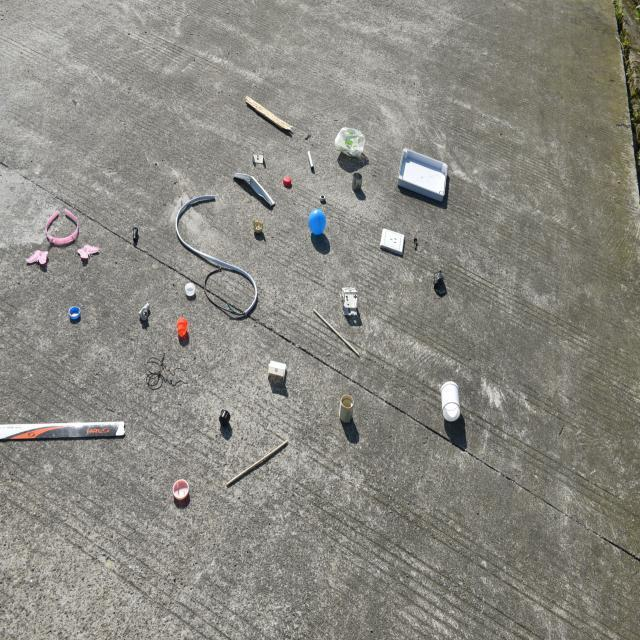Debris: (165, 193, 266, 312), (0, 408, 131, 446), (26, 212, 97, 270), (400, 143, 450, 212), (305, 298, 365, 354), (232, 446, 302, 490), (240, 89, 298, 139), (433, 372, 472, 434), (329, 120, 373, 158), (141, 356, 182, 392), (374, 219, 412, 256), (330, 396, 364, 436), (236, 172, 274, 207), (260, 354, 296, 388), (336, 280, 365, 320), (303, 206, 332, 242), (63, 298, 94, 331), (426, 266, 453, 303), (169, 478, 197, 504), (349, 170, 375, 197), (178, 318, 199, 350), (126, 222, 146, 252), (300, 149, 320, 175), (136, 294, 152, 326), (249, 155, 274, 173), (212, 405, 231, 428), (280, 169, 296, 196), (318, 189, 330, 209)
